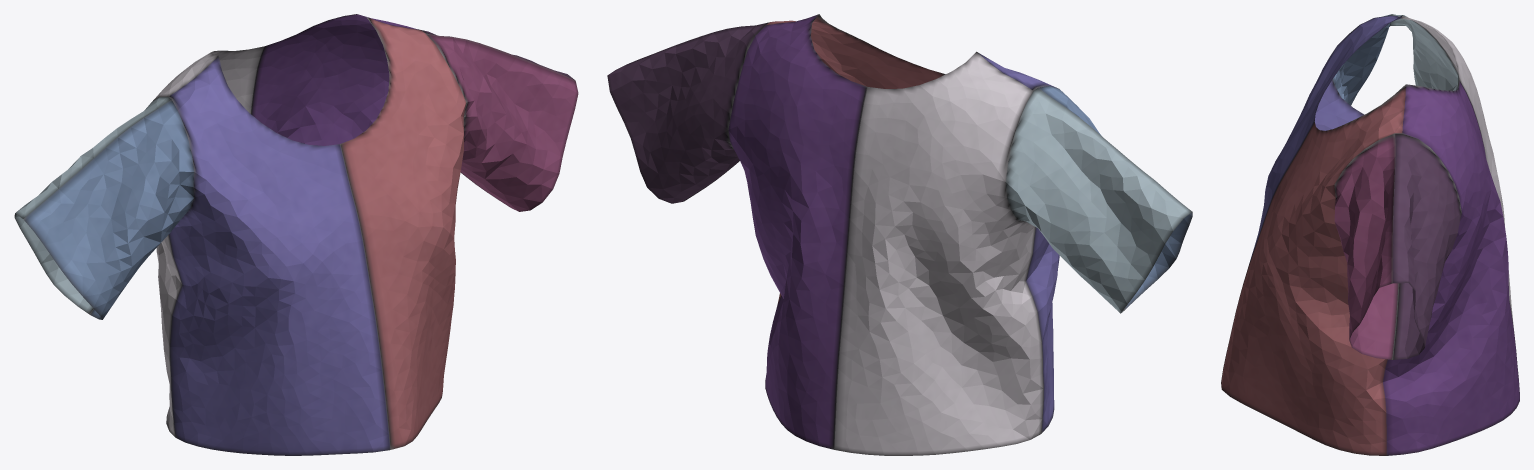
The model's file is custom_sim.obj.
3 renders of one model, left to right at view 1: azimuth 30°, elevation 25°; view 2: azimuth 150°, elevation 25°; view 3: azimuth 270°, elevation 25°, orthographic. The views are drawn at different scales.
Size of the model in its own units: 74.27 by 46.56 by 36.08.
Materials: 1 (1 with a texture image).
